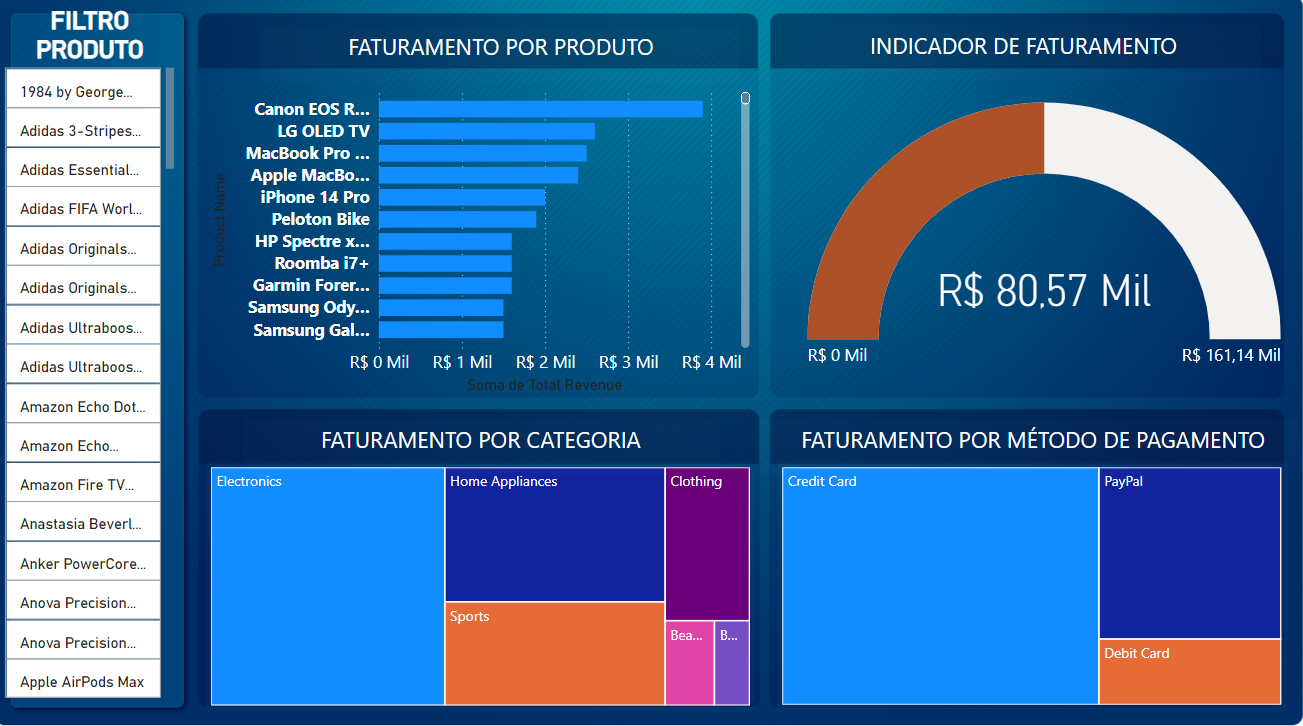

This screenshot's page, from the dashboard's own definition file:
{"tool":"powerbi","page":{"name":"Página 1","canvas":[1280,720],"ordinal":1},"visuals":[{"type":"shape","box":[0,16.3,244.6,703.1],"z":0},{"type":"clusteredBarChart","title":"FATURAMENTO POR PRODUTO","fields":{"Category":["BANCO DE DADOS 01.Product Name"],"Y":["Sum(BANCO DE DADOS 01.Total Revenue)"]},"box":[259.2,495.4,951.8,208.8],"z":1000},{"type":"treemap","title":"FATURAMENTO POR CATEGORIA","fields":{"Group":["BANCO DE DADOS 01.Product Category"],"Values":["Sum(BANCO DE DADOS 01.Total Revenue)"]},"box":[259.7,202,356.4,233.7],"z":2000},{"type":"treemap","title":"FATURAMENTO POR MÉTODO DE PAGAMENTO","fields":{"Values":["Sum(BANCO DE DADOS 01.Total Revenue)"],"Group":["BANCO DE DADOS 01.Payment Method"]},"box":[920.5,202,359.2,233.7],"z":3000},{"type":"gauge","title":"INDICADOR DE FATURAMENTO","fields":{"Y":["Sum(BANCO DE DADOS 01.Total Revenue)"]},"box":[641,202,276.6,234.1],"z":4000},{"type":"shape","box":[259.7,422.7,1020,56.3],"z":5000},{"type":"shape","box":[259.1,161.3,1020.2,56.2],"z":6000},{"type":"advancedSlicerVisual","title":"FILTRO PRODUTO","fields":{"Values":["BANCO DE DADOS 01.Product Name"]},"box":[14.5,16.3,217.4,686.8],"z":7000},{"type":"cardVisual","title":"FATURAMENTO TOTAL","fields":{"Data":["Sum(BANCO DE DADOS 01.Total Revenue)"]},"box":[259.7,15.9,240.9,145.7],"z":8000},{"type":"cardVisual","title":"MENOR PREÇO","fields":{"Data":["Min(BANCO DE DADOS 01.Unit Price)"]},"box":[500.6,17.3,275.6,142.8],"z":9000},{"type":"cardVisual","title":"MAIOR PREÇO","fields":{"Data":["Max(BANCO DE DADOS 01.Unit Price)"]},"box":[779.1,17.3,295.8,142.8],"z":10000}]}

Visuals, with their boxes in screenshot pixels (x1, y1, x2, y2), scaled from the page's 1280x720 canvas onto the 1303x726 screenshot:
shape: (0, 16, 249, 725)
"FATURAMENTO POR PRODUTO" clusteredBarChart: (264, 500, 1233, 710)
"FATURAMENTO POR CATEGORIA" treemap: (264, 204, 627, 439)
"FATURAMENTO POR MÉTODO DE PAGAMENTO" treemap: (937, 204, 1302, 439)
"INDICADOR DE FATURAMENTO" gauge: (653, 204, 934, 440)
shape: (264, 426, 1302, 483)
shape: (264, 163, 1302, 219)
"FILTRO PRODUTO" advancedSlicerVisual: (15, 16, 236, 709)
"FATURAMENTO TOTAL" cardVisual: (264, 16, 510, 163)
"MENOR PREÇO" cardVisual: (510, 17, 790, 161)
"MAIOR PREÇO" cardVisual: (793, 17, 1094, 161)
